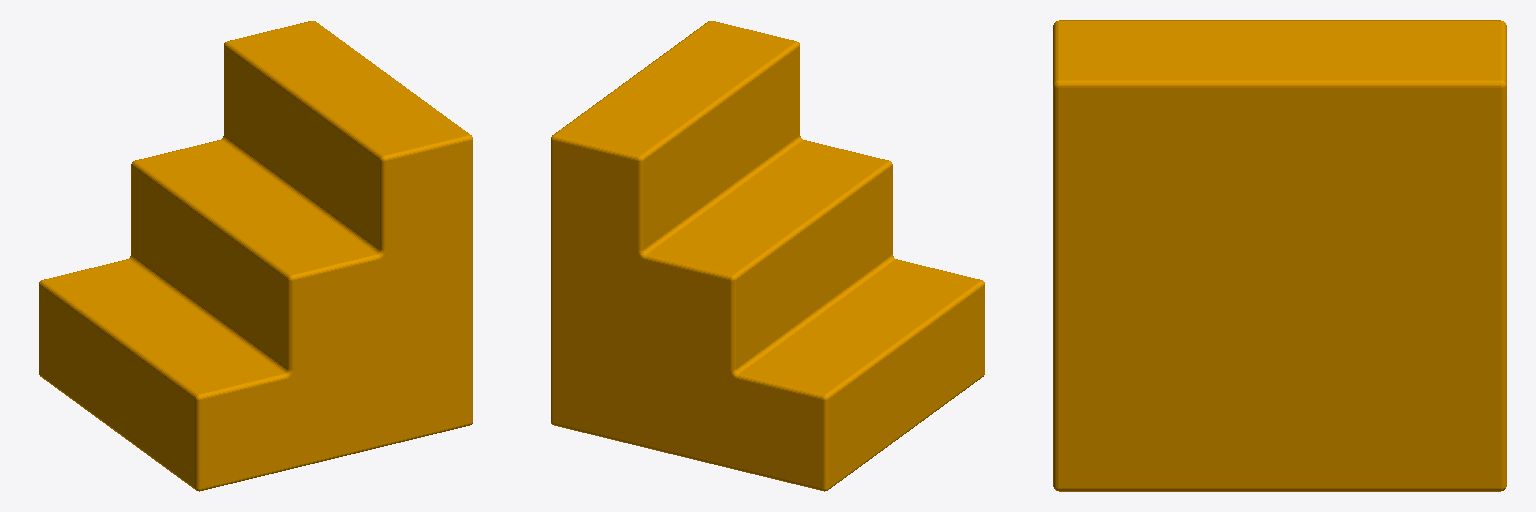
The robot description file, URDF, robot "object":
<?xml version="1.0"?>
<robot name="object">
  <link name="object">
    <visual>
      <origin xyz="0 0 0"/>
      <geometry>
        <mesh filename="stairs.obj" scale=".001 .001 .001"/>
      </geometry>
    </visual>
    <collision>
      <origin xyz="0 0 0"/>
      <geometry>
        <mesh filename="stairs.obj" scale=".001 .001 .001"/>
      </geometry>
    </collision>
    <inertial>
      <density value="567.0"/>
    </inertial>
  </link>
</robot>

--- What the picture shows (computed from the rendered views, not written in the file) ---
3 views of the same robot in one strip: view 1: azimuth 30°, elevation 25°; view 2: azimuth 150°, elevation 25°; view 3: azimuth 270°, elevation 25° (orthographic).
Model object with 1 links and 0 joints (none), rooted at object, posed all joints at 0.
Visible links, largest first — view 1: object; view 2: object; view 3: object.
Boxes of the visible links, x1,y1,x2,y2 form: object: [39, 21, 472, 491]; object: [551, 21, 984, 491]; object: [1053, 20, 1506, 491].
Size in the robot's own frame: 0.05 by 0.05 by 0.05 metres.
1 mesh visuals loaded from 1 distinct referenced files (1 OBJ).